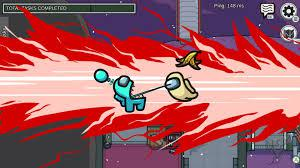amongus: (115, 76, 148, 113), (166, 73, 199, 102)
